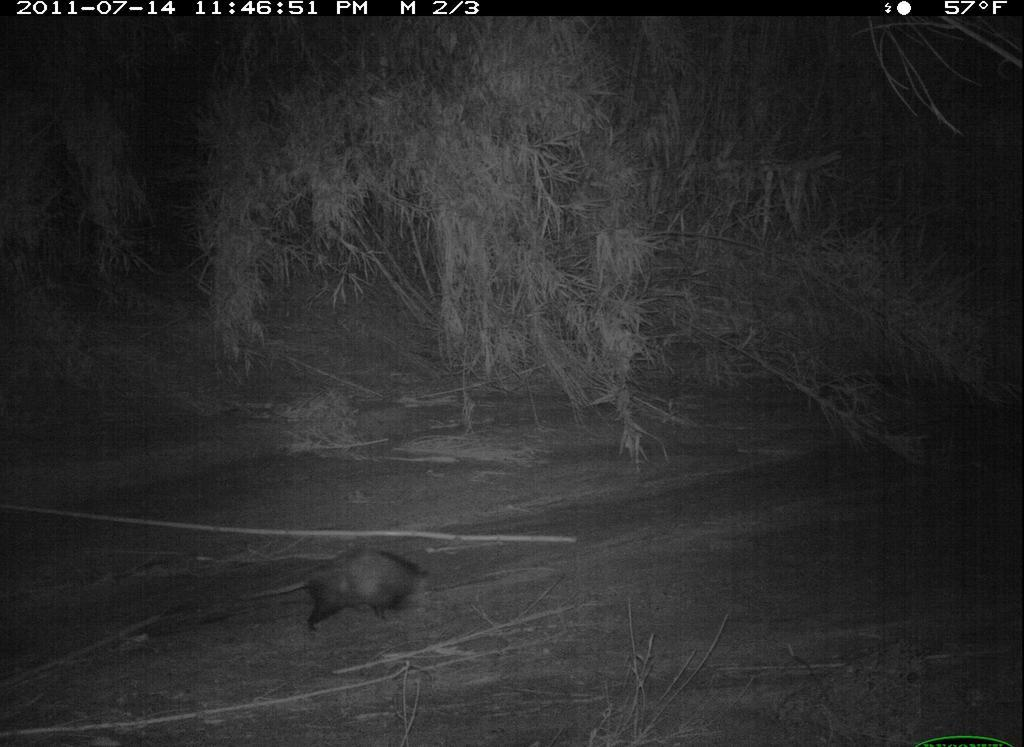opossum: (230, 546, 440, 637)
